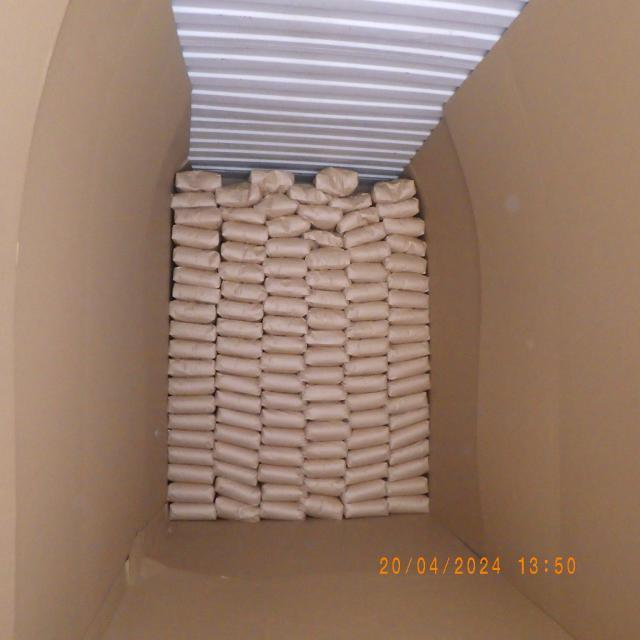gunny_bag: (316, 164, 360, 196), (171, 223, 222, 249), (390, 419, 430, 452), (292, 202, 342, 228), (214, 496, 261, 523), (343, 220, 385, 250), (216, 477, 260, 505), (336, 208, 381, 235), (214, 459, 258, 486), (388, 404, 430, 432), (248, 168, 295, 193), (346, 424, 391, 450), (214, 424, 262, 448), (172, 206, 222, 229), (172, 247, 222, 270), (168, 301, 218, 324), (214, 443, 260, 468), (387, 390, 428, 418), (218, 181, 262, 207), (254, 192, 298, 218), (221, 220, 268, 244), (218, 240, 266, 263), (216, 317, 264, 340), (171, 282, 221, 304), (388, 354, 430, 380), (388, 456, 430, 482), (215, 390, 262, 413), (216, 372, 261, 396), (303, 494, 343, 521), (217, 407, 260, 432), (387, 374, 430, 399), (174, 266, 222, 288), (216, 356, 260, 380), (265, 235, 309, 259), (306, 246, 350, 270), (371, 179, 416, 202), (175, 168, 222, 190), (217, 335, 264, 357), (260, 426, 307, 448), (168, 321, 217, 342), (256, 447, 305, 468), (220, 280, 266, 302), (264, 276, 310, 298), (263, 296, 309, 318), (259, 352, 305, 374), (304, 287, 348, 310), (168, 339, 216, 360), (348, 443, 390, 467), (387, 440, 429, 464), (166, 358, 216, 378), (220, 260, 265, 282), (261, 389, 304, 412), (388, 341, 431, 364), (348, 240, 389, 264), (304, 344, 348, 366), (344, 462, 388, 484), (375, 196, 419, 218), (218, 298, 264, 319), (265, 255, 307, 278), (260, 408, 306, 429), (345, 281, 388, 303), (387, 271, 430, 293), (166, 482, 213, 502), (302, 403, 349, 423), (345, 356, 389, 377), (386, 474, 428, 496), (168, 394, 214, 414), (168, 502, 214, 522), (262, 316, 308, 336), (302, 458, 348, 478), (386, 235, 426, 258), (345, 374, 388, 395), (304, 366, 346, 387), (388, 324, 430, 345), (222, 204, 266, 224), (302, 228, 346, 248), (304, 328, 348, 348), (302, 440, 346, 460), (328, 192, 372, 212), (347, 262, 387, 284), (386, 290, 430, 310), (171, 190, 219, 208), (168, 378, 216, 396), (306, 268, 349, 288), (348, 407, 388, 428), (383, 216, 425, 236), (385, 254, 427, 274), (260, 372, 304, 391), (344, 481, 388, 500), (168, 446, 214, 464), (261, 335, 307, 353), (258, 465, 304, 483), (258, 484, 304, 502), (346, 301, 389, 320), (306, 424, 351, 442), (260, 503, 304, 521), (302, 384, 346, 402), (266, 218, 309, 236), (348, 320, 391, 338), (347, 392, 387, 411), (346, 339, 388, 357), (346, 500, 388, 518), (388, 308, 430, 326), (166, 464, 213, 480), (306, 310, 347, 328), (305, 477, 346, 495), (168, 431, 214, 447), (168, 414, 216, 429), (388, 496, 428, 514), (290, 184, 327, 202)
